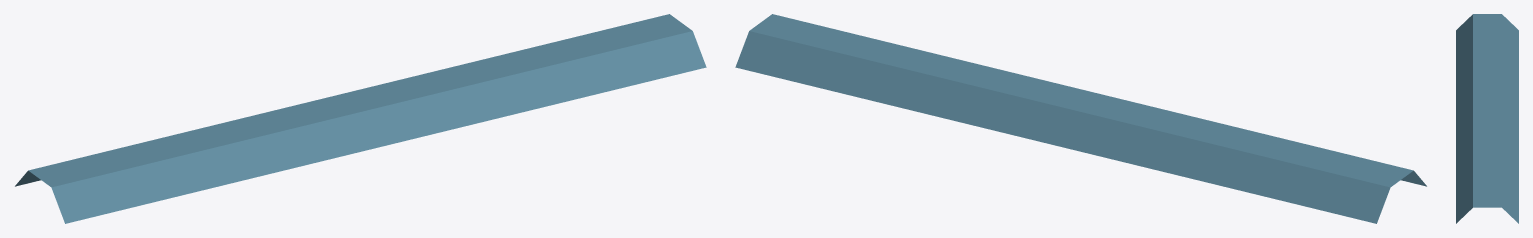
The model's file is FloorPanels.fbx.
3 renders of one model, left to right at view 1: azimuth 30°, elevation 25°; view 2: azimuth 150°, elevation 25°; view 3: azimuth 270°, elevation 25°, orthographic. The views are drawn at different scales.
Parts seen in each view (by area): view 1: pCube2; view 2: pCube2; view 3: pCube2.
Part boxes in pixels (x1=…): pCube2: x1=15, y1=14, x2=706, y2=223; pCube2: x1=735, y1=14, x2=1426, y2=223; pCube2: x1=1456, y1=14, x2=1518, y2=223.
Size of the model in its own units: 400 by 15.73 by 54.88.
